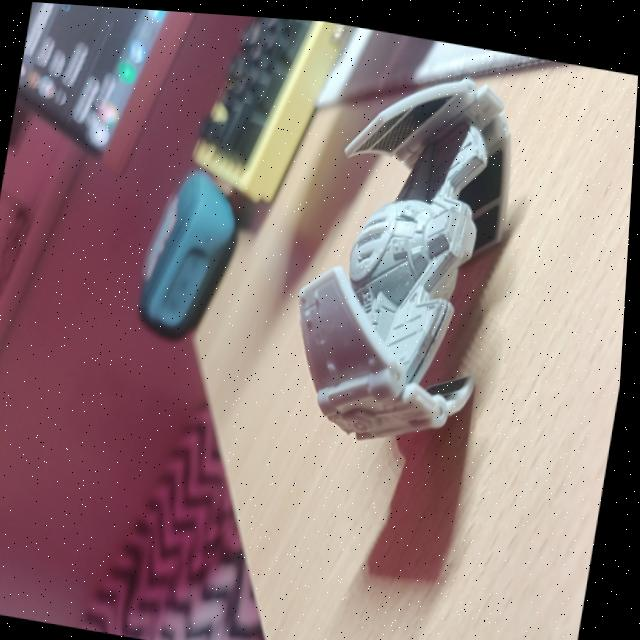tie fighter: (275, 41, 524, 456)
